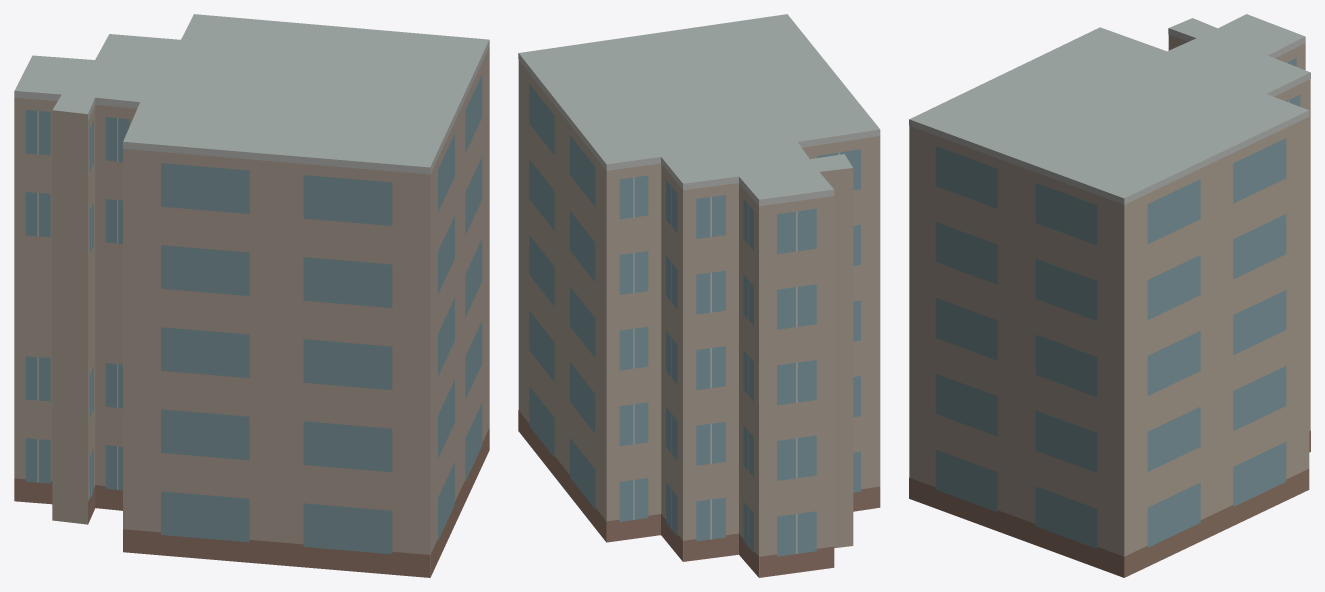
The model's file is survey-upis-32711265.glb.
The picture shows the model from 3 angles, left to right: view 1: azimuth 30°, elevation 25°; view 2: azimuth 150°, elevation 25°; view 3: azimuth 270°, elevation 25°; orthographic projection. The views are drawn at different scales.
Parts seen in each view (by area): view 1: survey-upis-32711265.tmp; view 2: survey-upis-32711265.tmp; view 3: survey-upis-32711265.tmp.
Part boxes in pixels (x1,y1,x2,y2): survey-upis-32711265.tmp: [14, 14, 489, 577]; survey-upis-32711265.tmp: [518, 14, 880, 577]; survey-upis-32711265.tmp: [909, 14, 1310, 577].
Bounding box in the file's own units: 14.92 × 14.3 × 13.72.
